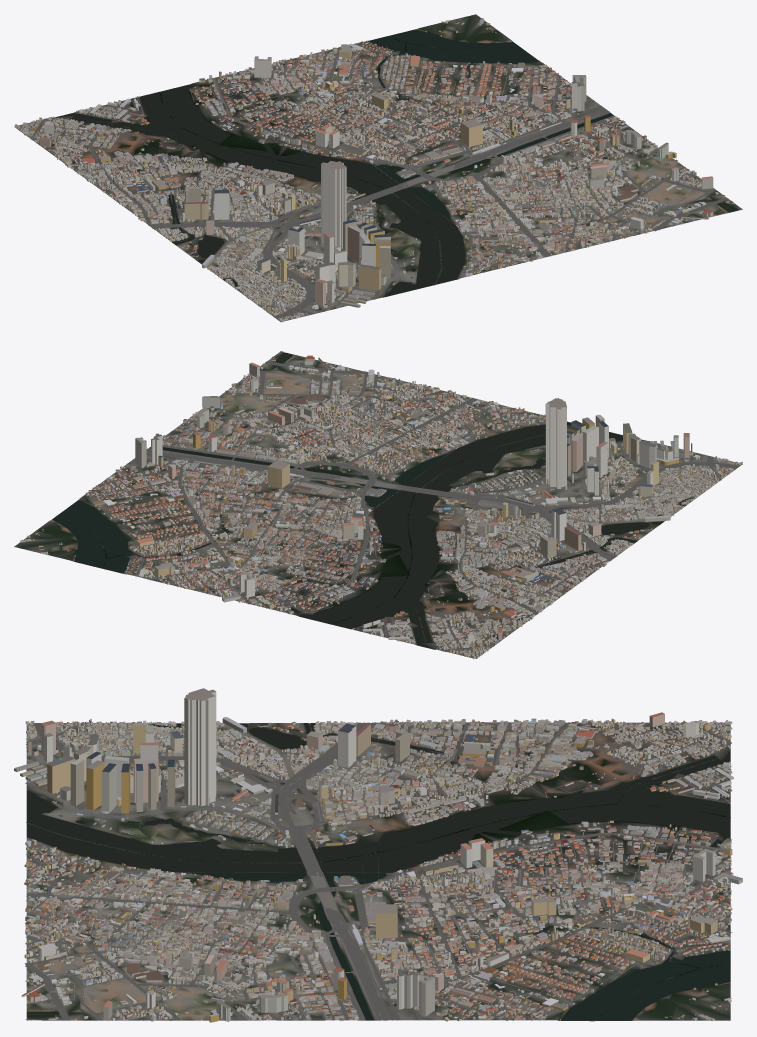
3 renders of one model, top to bottom at view 1: azimuth 30°, elevation 25°; view 2: azimuth 150°, elevation 25°; view 3: azimuth 270°, elevation 25°, orthographic. The views are drawn at different scales.
Parts seen in each view (by area): view 1: buildings, ground, water, roads; view 2: buildings, ground, water, roads; view 3: buildings, ground, water, roads.
Boxes of the visible parts, x1,y1,x2,y2 form: buildings: (14, 18, 733, 322); ground: (14, 14, 742, 321); water: (56, 29, 737, 296); roads: (30, 27, 742, 321); buildings: (20, 355, 742, 658); ground: (14, 352, 742, 658); water: (52, 352, 692, 649); roads: (32, 351, 739, 654); buildings: (14, 688, 742, 1022); ground: (26, 722, 730, 1021); water: (26, 723, 730, 1020); roads: (24, 722, 731, 1020).
Bounding box in the file's own units: 2842 × 466 × 2900.
